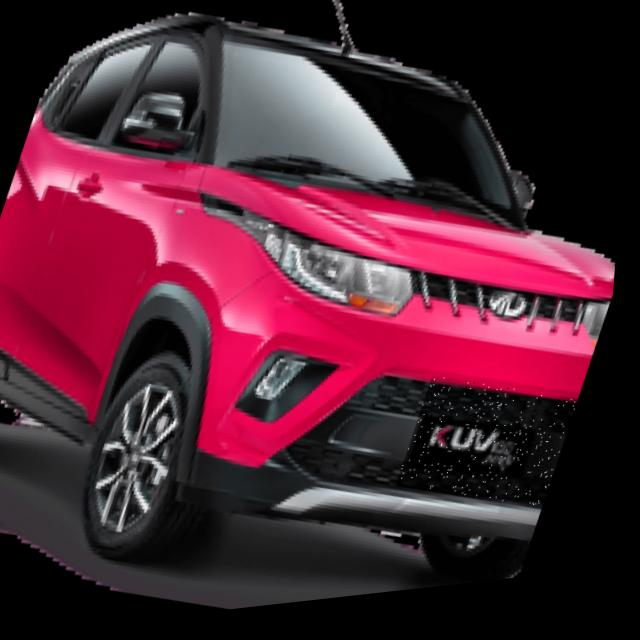license_plate: (402, 373, 587, 536)
